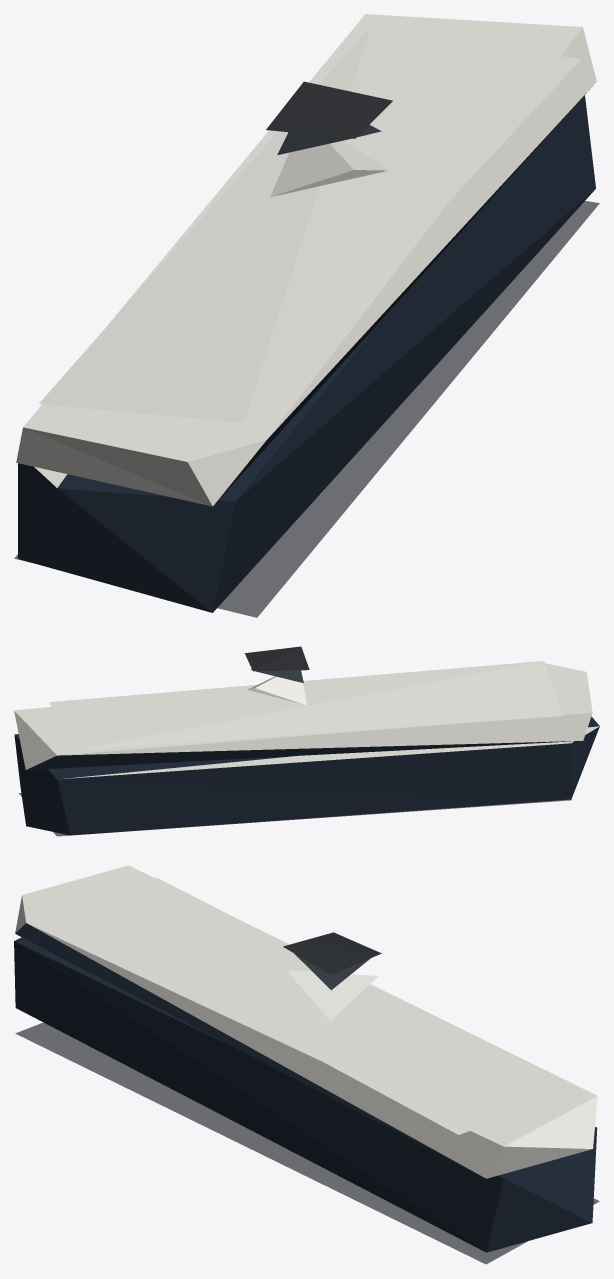
Rendered from pont-13.lod2.glb.
3 views of the same model, one above another, from view 1: azimuth 30°, elevation 25°; view 2: azimuth 150°, elevation 25°; view 3: azimuth 270°, elevation 25° (orthographic). The views are drawn at different scales.
Parts seen in each view (by area): view 1: lod2; view 2: lod2; view 3: lod2.
Part boxes in pixels (bbox=[...]): lod2: bbox=[14, 14, 599, 617]; lod2: bbox=[14, 646, 599, 836]; lod2: bbox=[14, 865, 599, 1264].
Bounding box in the file's own units: 34.34 × 10.5 × 30.08.
